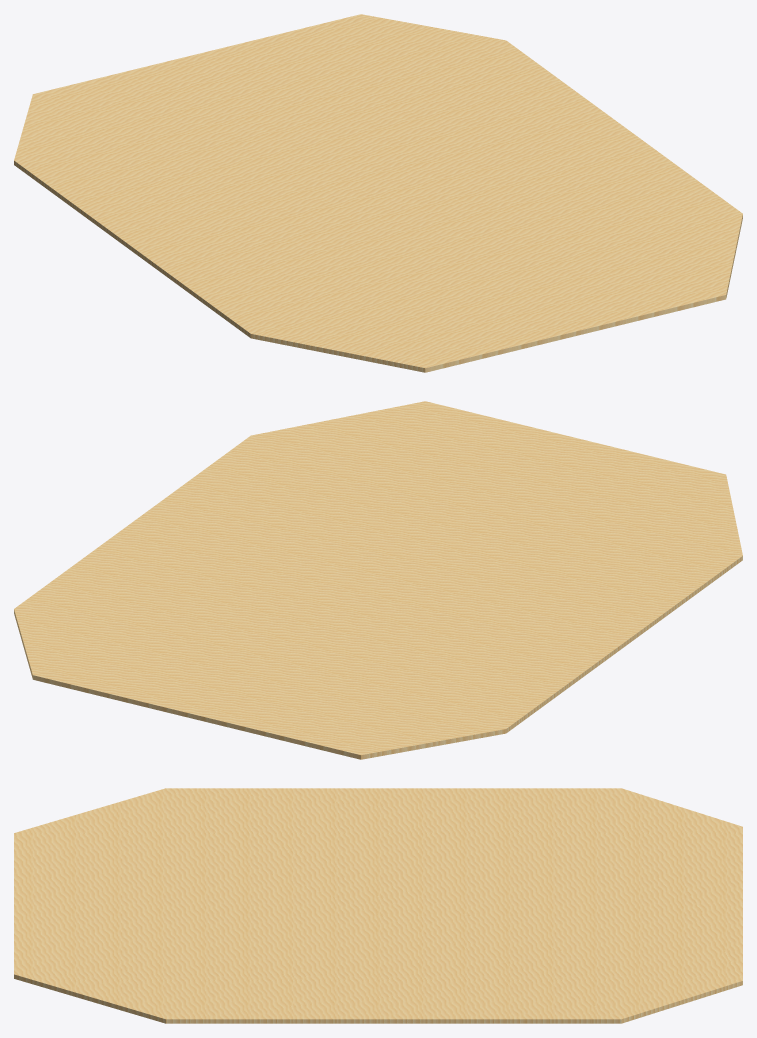
Rendered from seabed-27-CMYfwafx.glb.
The picture shows the model from 3 angles, top to bottom: view 1: azimuth 30°, elevation 25°; view 2: azimuth 150°, elevation 25°; view 3: azimuth 270°, elevation 25°; orthographic projection. The views are drawn at different scales.
Visible parts, largest first — view 1: SW_SandShelf; view 2: SW_SandShelf; view 3: SW_SandShelf.
Part boxes in pixels (x1,y1,x2,y2): SW_SandShelf: (14, 14, 742, 372); SW_SandShelf: (14, 401, 742, 759); SW_SandShelf: (14, 788, 742, 1023).
Size of what is drawn, in the model's own units: 36 by 0.32 by 48.
Materials: 1 (1 with a texture image).
